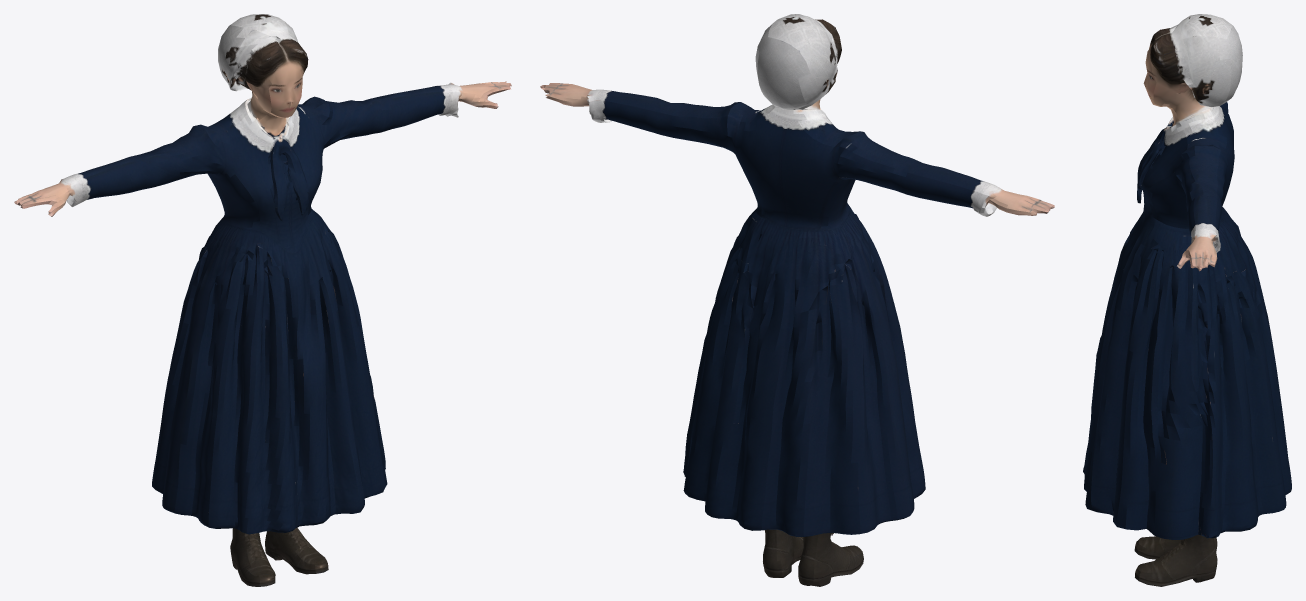
The model's file is lucy-mack-smith-10k.glb.
3 views of the same model, side by side, from view 1: azimuth 30°, elevation 25°; view 2: azimuth 150°, elevation 25°; view 3: azimuth 270°, elevation 25° (orthographic). The views are drawn at different scales.
Parts seen in each view (by area): view 1: Mesh0; view 2: Mesh0; view 3: Mesh0.
Part boxes in pixels (x1=…): Mesh0: x1=14, y1=14, x2=511, y2=586; Mesh0: x1=540, y1=14, x2=1054, y2=586; Mesh0: x1=1083, y1=14, x2=1291, y2=586.
Bounding box in the file's own units: 1.81 × 1.9 × 0.6546.
1 material, 1 textured.
